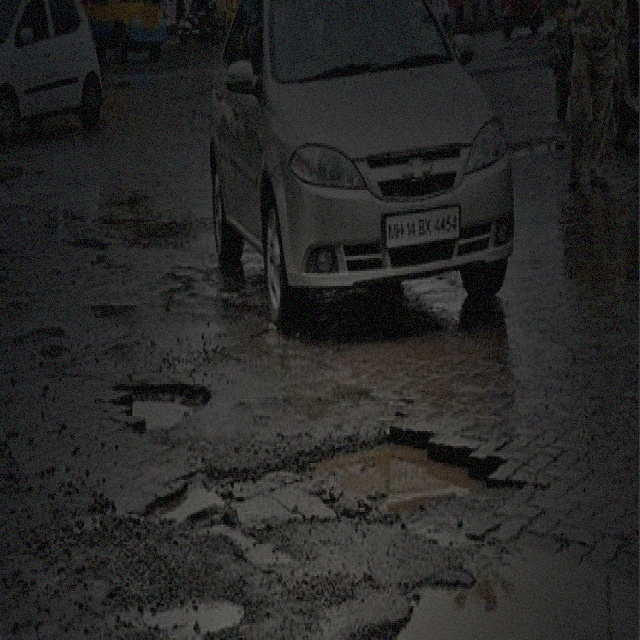pothole: (142, 418, 521, 542), (326, 544, 638, 638), (110, 373, 212, 438), (131, 597, 244, 636)
